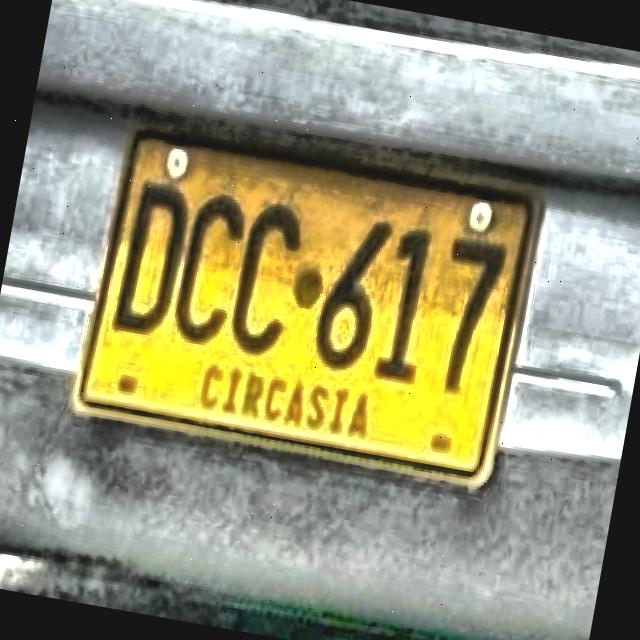1: (370, 225, 444, 388)
6: (307, 206, 398, 382)
7: (424, 230, 510, 399)
C: (224, 200, 307, 364), (168, 190, 252, 348)
D: (106, 177, 194, 342)
